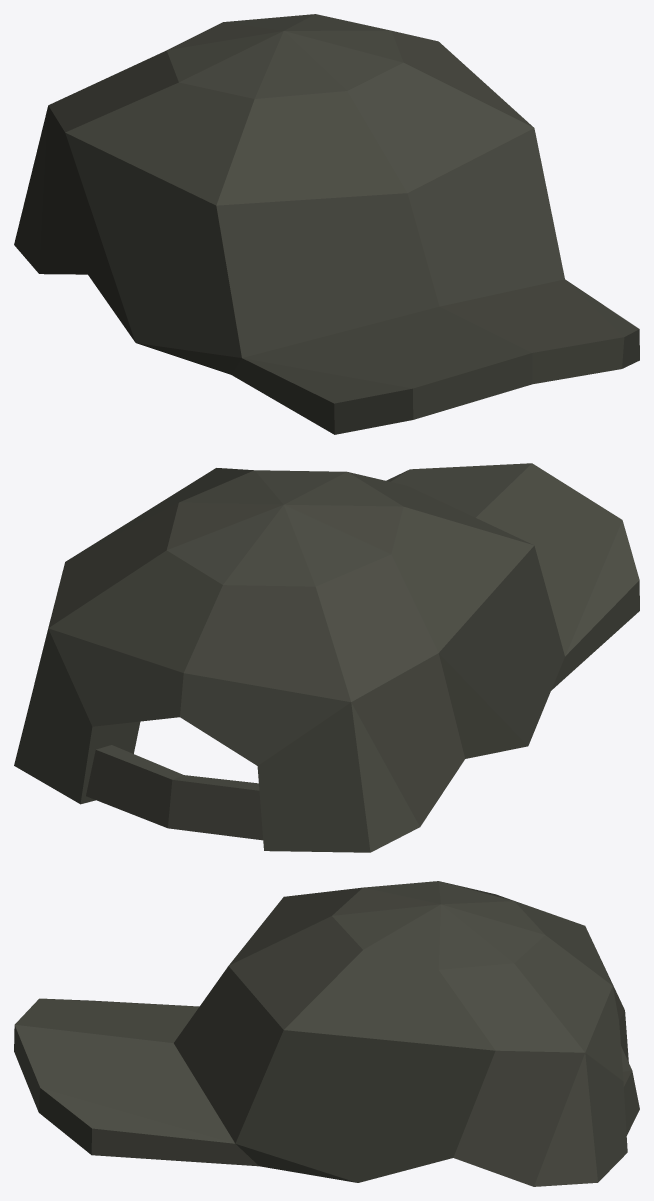
The model's file is SM_Chr_Attach_Hat_Cap_02.fbx.
The picture shows the model from 3 angles, top to bottom: view 1: azimuth 30°, elevation 25°; view 2: azimuth 150°, elevation 25°; view 3: azimuth 270°, elevation 25°; orthographic projection. The views are drawn at different scales.
Parts seen in each view (by area): view 1: SM_Chr_Attach_Hat_Cap_02; view 2: SM_Chr_Attach_Hat_Cap_02; view 3: SM_Chr_Attach_Hat_Cap_02.
Boxes of the visible parts, box(x1,y1,x2,y2) form: SM_Chr_Attach_Hat_Cap_02: box(14, 14, 639, 434); SM_Chr_Attach_Hat_Cap_02: box(14, 463, 639, 852); SM_Chr_Attach_Hat_Cap_02: box(14, 881, 639, 1186).
Size of the model in its own units: 25.87 by 15.96 by 41.61.
